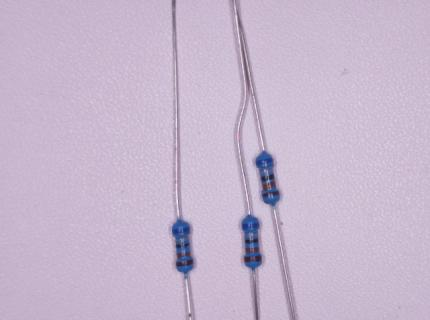Black band: (260, 174, 275, 182), (244, 239, 260, 244), (176, 243, 190, 248)
Blue band: (171, 226, 191, 234), (255, 158, 274, 165), (241, 223, 260, 229)
Brown band: (176, 259, 194, 267), (244, 255, 262, 263), (262, 191, 281, 198)
Grey band: (259, 168, 274, 175), (175, 237, 190, 243), (244, 233, 259, 238)
Orange band: (262, 181, 277, 191), (177, 251, 191, 259), (245, 247, 260, 253)
